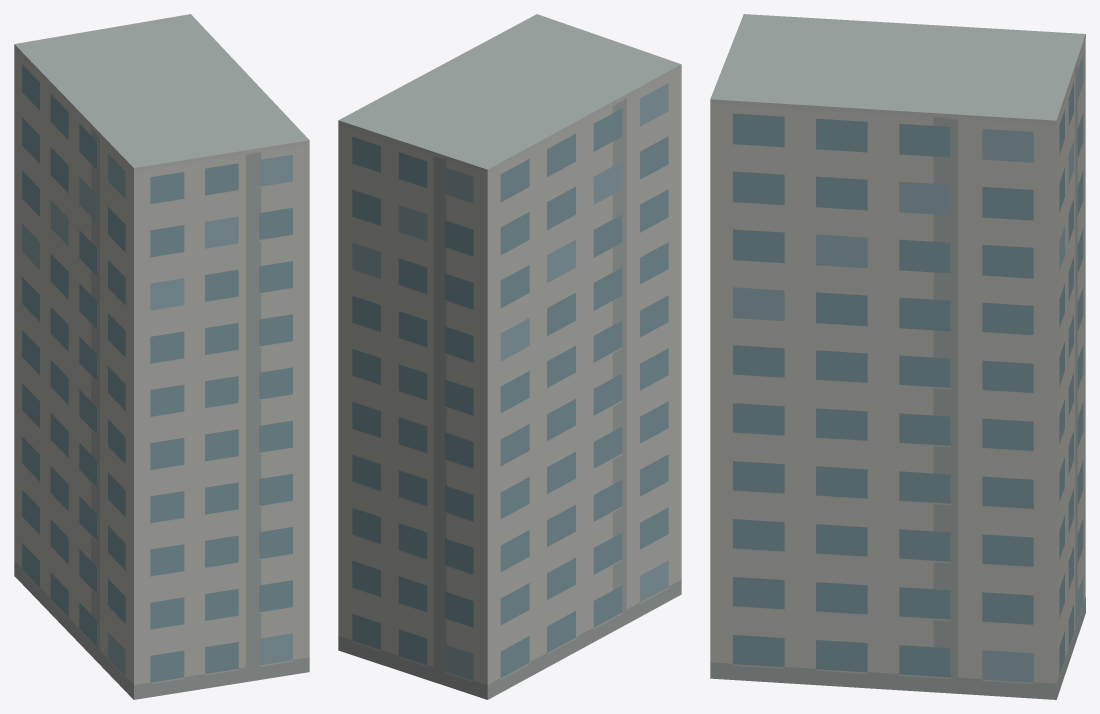
File: residential-cec154eb-d594-463e-84a3-5c59636fcf05.glb
3 renders of one model, left to right at view 1: azimuth 30°, elevation 25°; view 2: azimuth 150°, elevation 25°; view 3: azimuth 270°, elevation 25°, orthographic. The views are drawn at different scales.
Visible parts, largest first — view 1: residential-cec154eb-d594-463e-84a3-5c59636fcf05.tmp; view 2: residential-cec154eb-d594-463e-84a3-5c59636fcf05.tmp; view 3: residential-cec154eb-d594-463e-84a3-5c59636fcf05.tmp.
Part boxes in pixels (bbox=[...]): residential-cec154eb-d594-463e-84a3-5c59636fcf05.tmp: bbox=[14, 14, 309, 699]; residential-cec154eb-d594-463e-84a3-5c59636fcf05.tmp: bbox=[338, 14, 681, 699]; residential-cec154eb-d594-463e-84a3-5c59636fcf05.tmp: bbox=[710, 14, 1085, 699].
Size of the model in its own units: 12.25 by 31 by 18.22.
